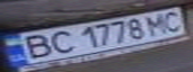1: (75, 24, 100, 48)
7: (109, 19, 130, 44), (93, 20, 112, 47)
8: (124, 16, 148, 40)
B: (15, 32, 57, 61)
C: (42, 28, 78, 55), (157, 8, 190, 34)
M: (142, 11, 172, 36)
